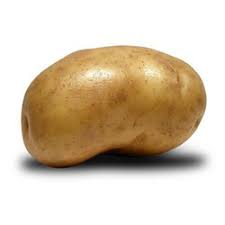potato: (20, 43, 200, 155)
